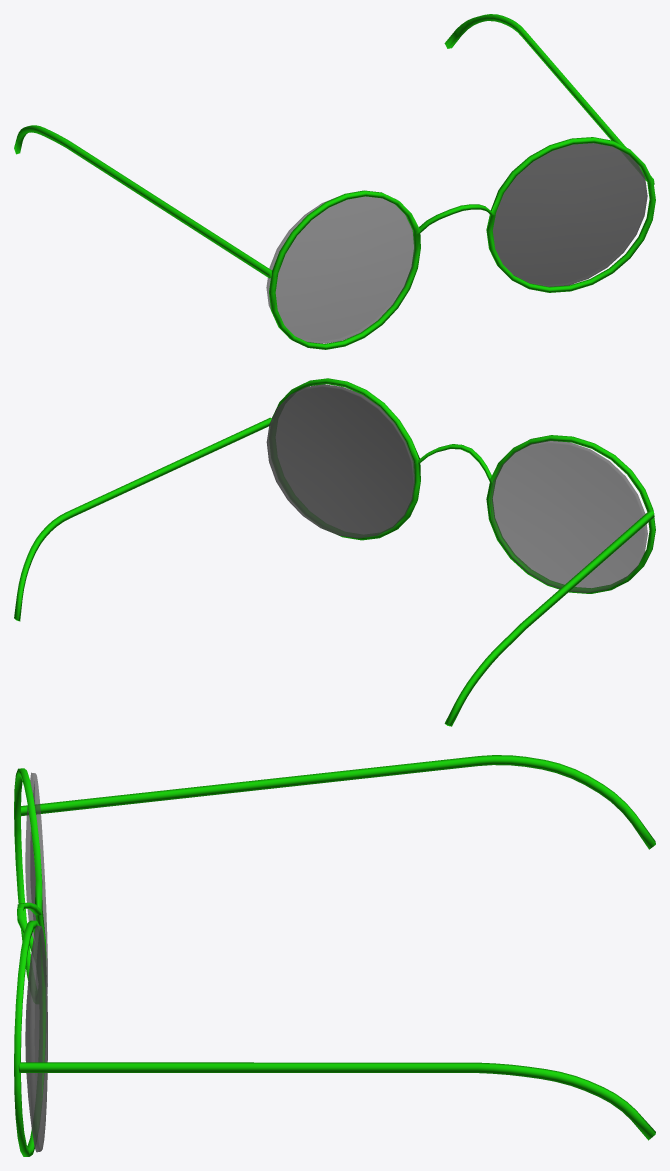
File: green.glb
3 renders of one model, top to bottom at view 1: azimuth 30°, elevation 25°; view 2: azimuth 150°, elevation 25°; view 3: azimuth 270°, elevation 25°, orthographic. The views are drawn at different scales.
Parts seen in each view (by area): view 1: glasses lenses.001, glasses lenses.002, glasses lenses.003, glasses frame.002, glasses frame.001; view 2: glasses lenses.003, glasses lenses.001, glasses lenses.002, glasses frame.002, glasses frame.001; view 3: glasses frame.001, glasses frame.002, glasses lenses.001, glasses lenses.002, glasses lenses.003.
Part boxes in pixels (bbox=[...]): glasses lenses.001: bbox=[493, 143, 647, 286]; glasses lenses.002: bbox=[493, 143, 647, 286]; glasses lenses.003: bbox=[266, 196, 414, 343]; glasses frame.002: bbox=[14, 125, 464, 349]; glasses frame.001: bbox=[444, 14, 655, 292]; glasses lenses.003: bbox=[489, 440, 647, 592]; glasses lenses.001: bbox=[266, 384, 414, 538]; glasses lenses.002: bbox=[267, 384, 414, 537]; glasses frame.002: bbox=[444, 435, 655, 726]; glasses frame.001: bbox=[14, 378, 463, 621]; glasses frame.001: bbox=[14, 907, 655, 1156]; glasses frame.002: bbox=[14, 755, 655, 981]; glasses lenses.001: bbox=[25, 925, 47, 1152]; glasses lenses.002: bbox=[25, 926, 47, 1151]; glasses lenses.003: bbox=[25, 772, 47, 993].
Size of the model in its own units: 0.152 by 0.0478 by 0.1318.
